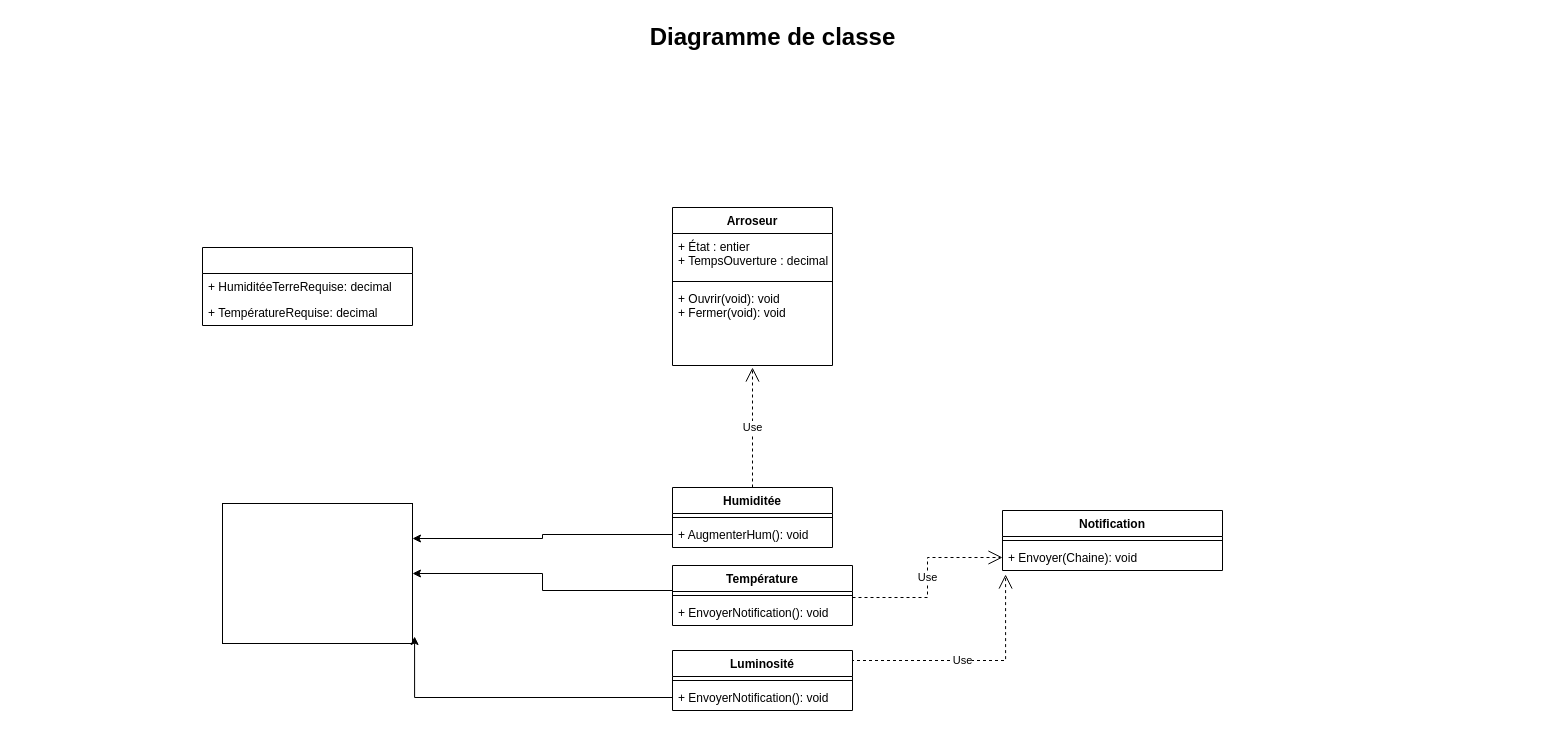
This 1544x730 diagram has some shape labels left out. Here are the shapes that lost their labels. From the top down, the box of each, then its label:
(202, 246, 412, 326): Plante
(222, 502, 412, 644): <<Interface>> État + ValeureActuelle: entier + RecupererValeur(): entier
